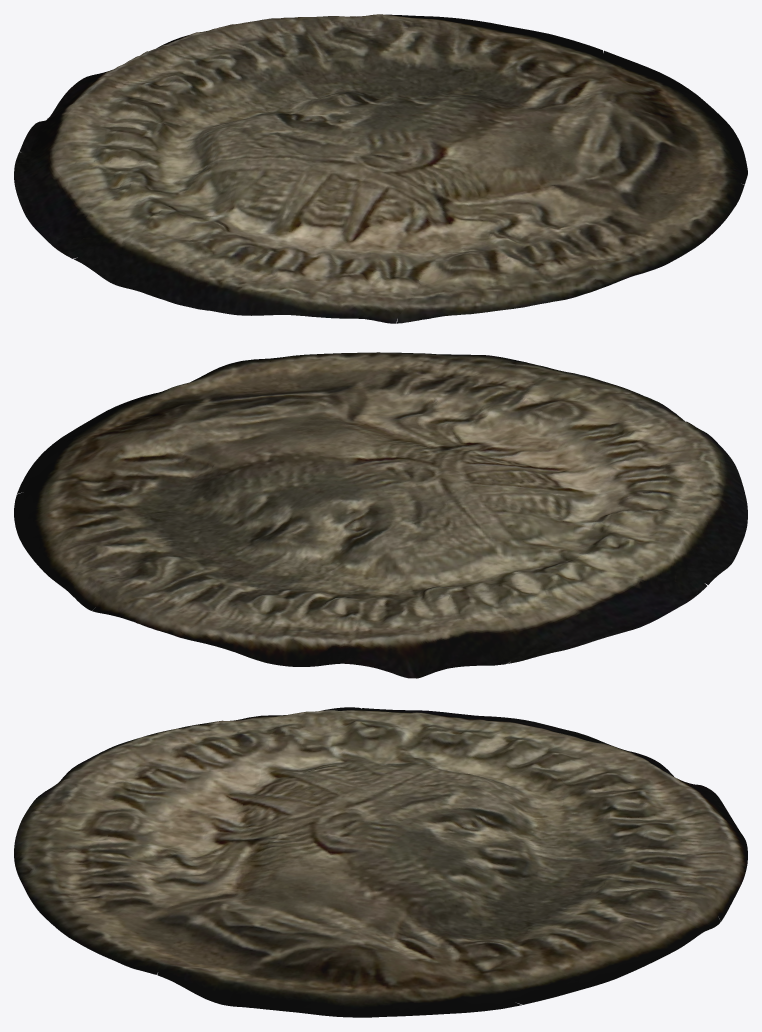
Rendered from antonious-obv.glb.
The picture shows the model from 3 angles, top to bottom: view 1: azimuth 30°, elevation 25°; view 2: azimuth 150°, elevation 25°; view 3: azimuth 270°, elevation 25°; orthographic projection.
Bounding box in the file's own units: 0.5055 × 0.0333 × 0.5055.
1 material, 1 textured.
